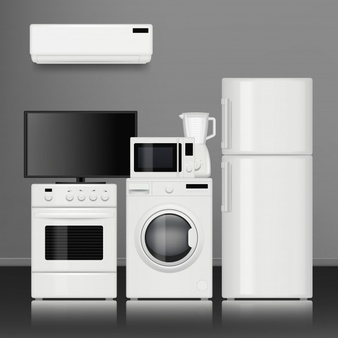AC: (29, 23, 154, 65)
Refrigerator: (221, 78, 312, 298)
